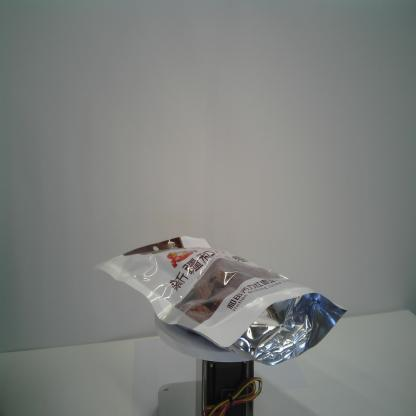Dried Food: (93, 233, 349, 369)
